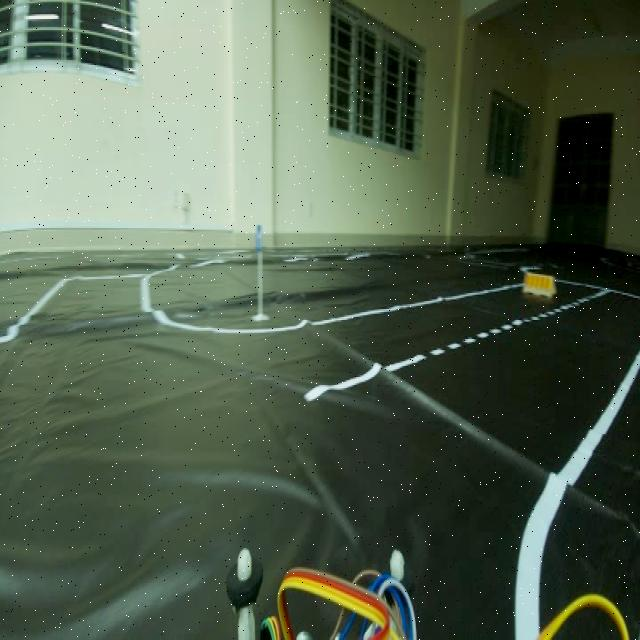onewayroad: (253, 220, 263, 257)
